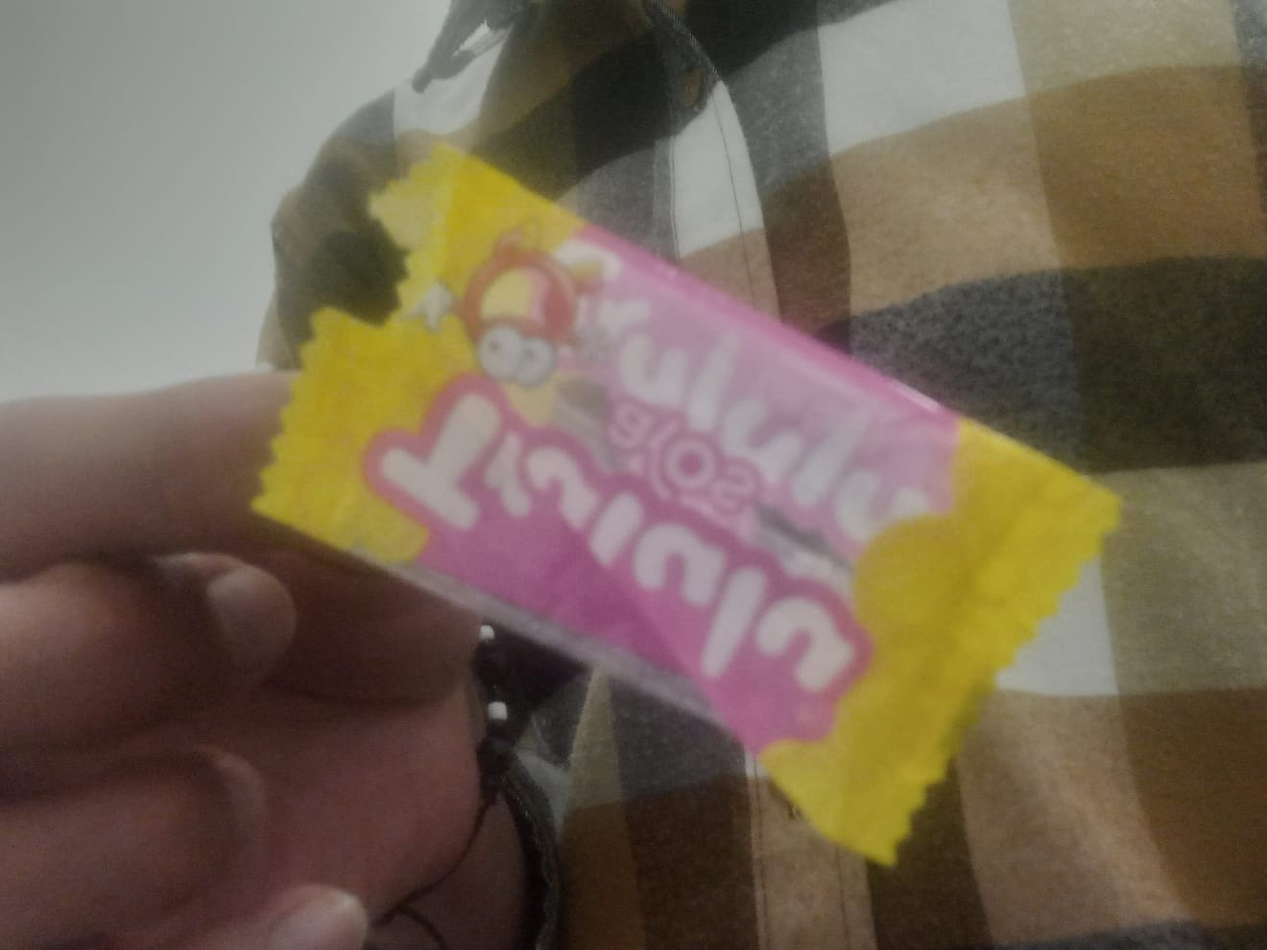Ordinario: (253, 135, 1119, 867)
